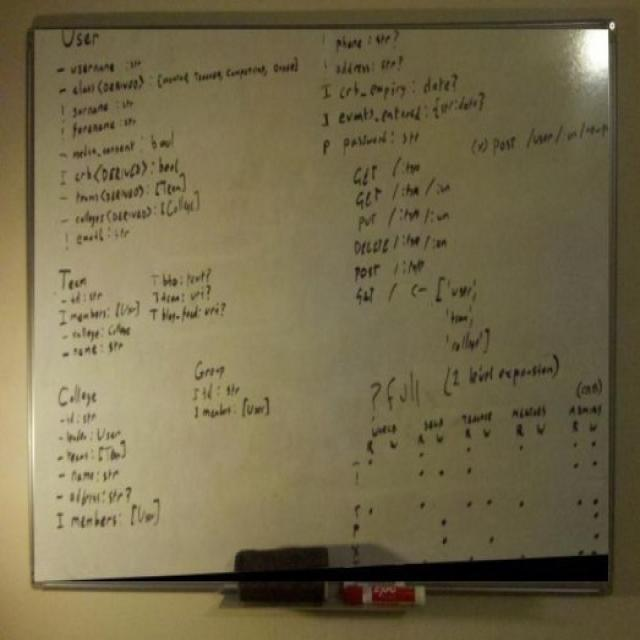White-board: (32, 27, 612, 591)
